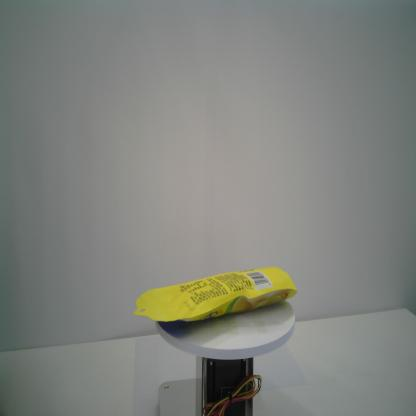Dried Fruit: (133, 266, 298, 324)
